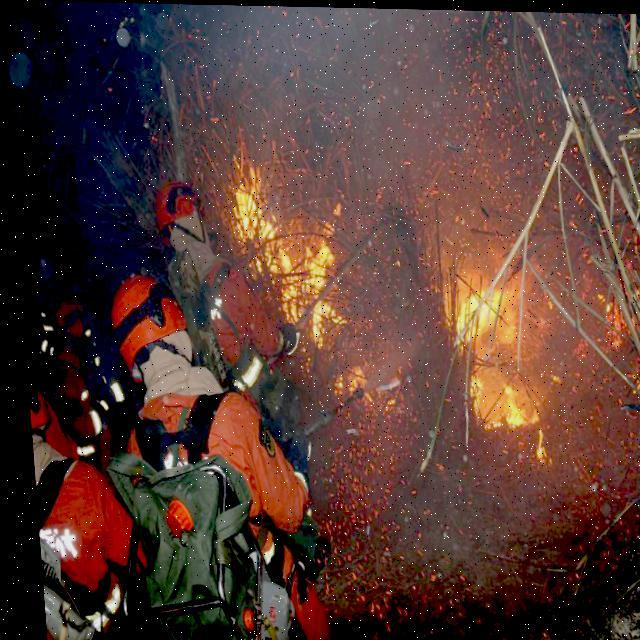Fire: (222, 161, 358, 360), (439, 257, 538, 444)
